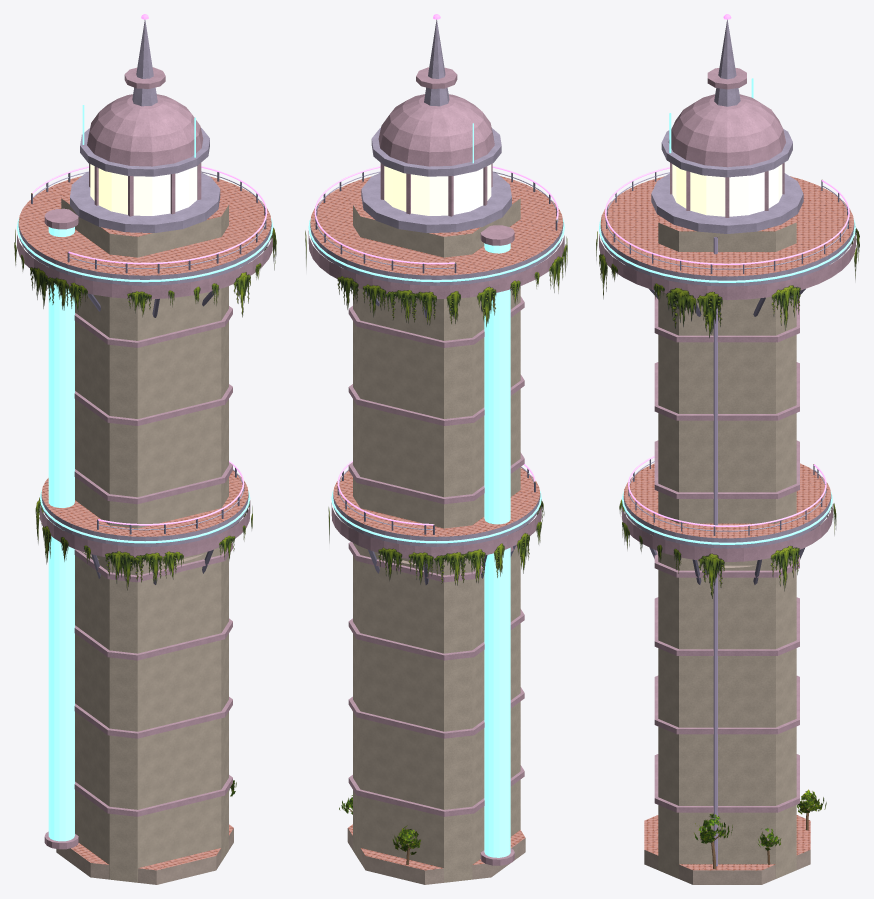
Rendered from TOWER_D.glb.
3 views of the same model, side by side, from view 1: azimuth 30°, elevation 25°; view 2: azimuth 150°, elevation 25°; view 3: azimuth 270°, elevation 25° (orthographic).
Visible parts, largest first — view 1: BT_TOWER_D_Body, BT_TOWER_D_Moss60, BT_TOWER_D_Moss34, BT_TOWER_D_Deck60_Rail0_Posts, BT_TOWER_D_Deck60_Rail0_Rail; view 2: BT_TOWER_D_Body, BT_TOWER_D_Moss60, BT_TOWER_D_Moss34, BT_TOWER_D_Deck60_Rail0_Posts, BT_TOWER_D_Deck60_Rail0_Rail, BT_TOWER_D_Trees; view 3: BT_TOWER_D_Body, BT_TOWER_D_Moss60, BT_TOWER_D_Moss34, BT_TOWER_D_Trees, BT_TOWER_D_Deck60_Rail0_Posts, BT_TOWER_D_Deck60_Rail0_Rail, BT_TOWER_D_Deck34_Rail0_Posts, BT_TOWER_D_Deck34_Rail0_Rail.
Part boxes in pixels (bbox=[...]): BT_TOWER_D_Body: bbox=[17, 14, 273, 884]; BT_TOWER_D_Moss60: bbox=[14, 227, 276, 317]; BT_TOWER_D_Moss34: bbox=[35, 497, 252, 590]; BT_TOWER_D_Deck60_Rail0_Posts: bbox=[31, 171, 266, 273]; BT_TOWER_D_Deck60_Rail0_Rail: bbox=[32, 166, 267, 264]; BT_TOWER_D_Body: bbox=[308, 14, 564, 884]; BT_TOWER_D_Moss60: bbox=[305, 230, 567, 326]; BT_TOWER_D_Moss34: bbox=[328, 499, 544, 585]; BT_TOWER_D_Deck60_Rail0_Posts: bbox=[315, 171, 558, 273]; BT_TOWER_D_Deck60_Rail0_Rail: bbox=[314, 166, 558, 264]; BT_TOWER_D_Trees: bbox=[339, 795, 420, 864]; BT_TOWER_D_Body: bbox=[599, 14, 855, 884]; BT_TOWER_D_Moss60: bbox=[596, 228, 859, 338]; BT_TOWER_D_Moss34: bbox=[619, 499, 836, 598]; BT_TOWER_D_Trees: bbox=[694, 789, 826, 869]; BT_TOWER_D_Deck60_Rail0_Posts: bbox=[605, 172, 849, 273]; BT_TOWER_D_Deck60_Rail0_Rail: bbox=[605, 167, 849, 264]; BT_TOWER_D_Deck34_Rail0_Posts: bbox=[628, 459, 826, 535]; BT_TOWER_D_Deck34_Rail0_Rail: bbox=[628, 456, 826, 526].
Size of the model in its own units: 22.78 by 79.95 by 22.88.
Materials: 15 (6 with a texture image).
